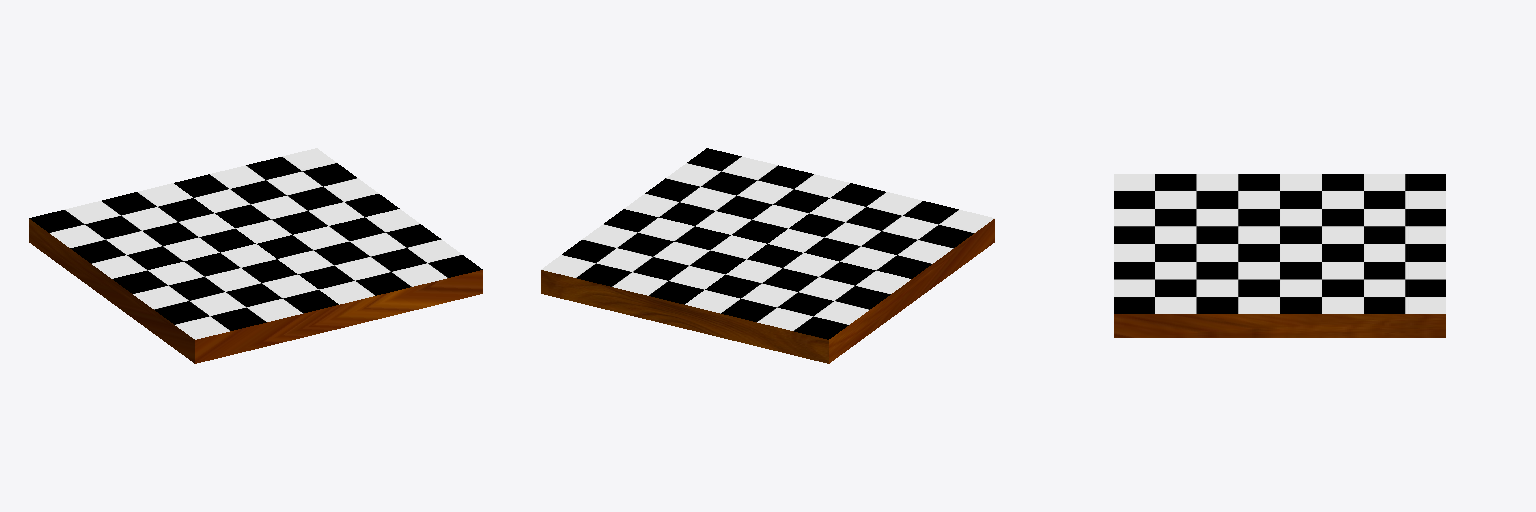
3 views of the same model, side by side, from view 1: azimuth 30°, elevation 25°; view 2: azimuth 150°, elevation 25°; view 3: azimuth 270°, elevation 25° (orthographic).
Parts seen in each view (by area): view 1: Board_Chess; view 2: Board_Chess; view 3: Board_Chess.
Part boxes in pixels (left/top/right/bottom): Board_Chess: left=29, top=148, right=482, bottom=363; Board_Chess: left=541, top=148, right=994, bottom=363; Board_Chess: left=1114, top=174, right=1445, bottom=337.
Bounding box in the file's own units: 17.8 × 1.42 × 17.8.
2 materials, 2 textured.